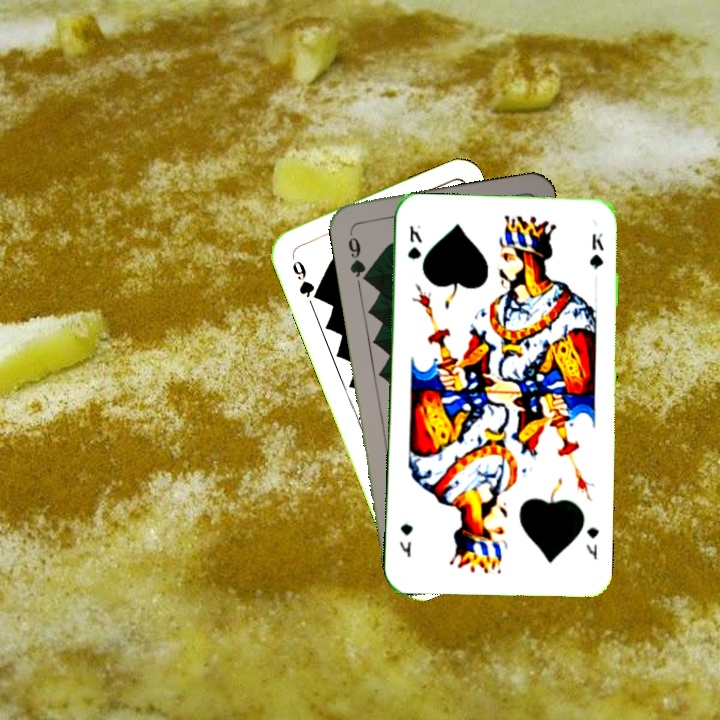G9: (287, 249, 323, 303), (344, 226, 371, 284)
GK: (404, 221, 424, 262), (582, 523, 602, 562)
